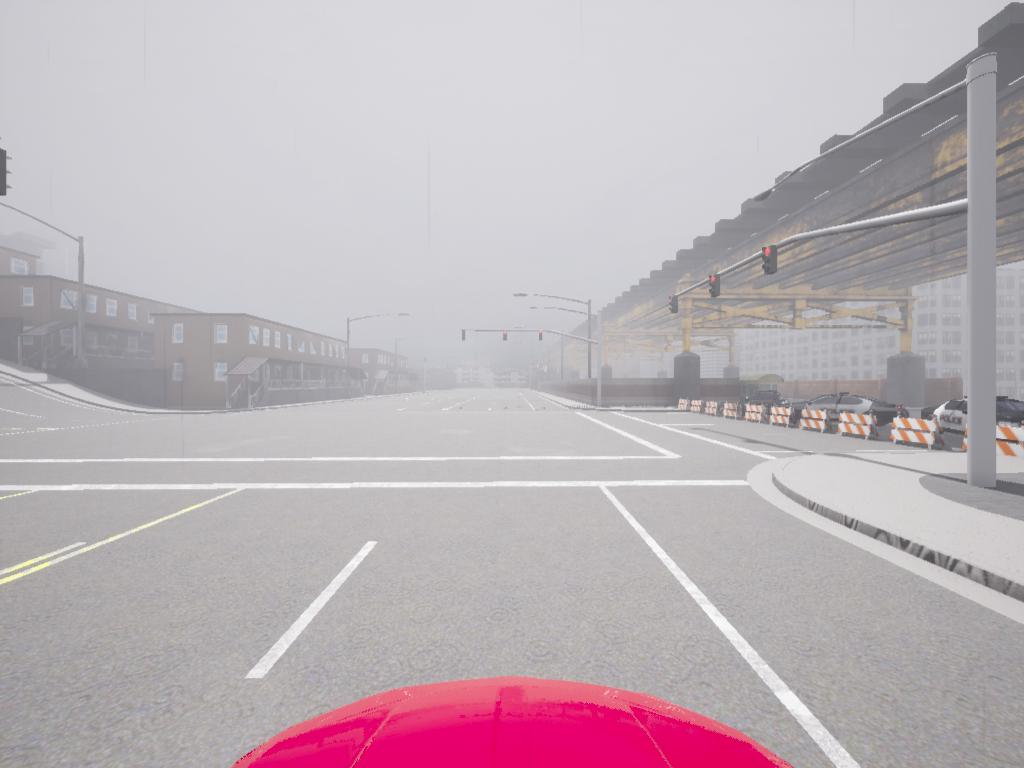traffic_light: (1, 148, 13, 197), (764, 249, 778, 277), (709, 274, 723, 300), (668, 295, 682, 317), (501, 330, 510, 343), (461, 329, 468, 344), (538, 331, 545, 341)
